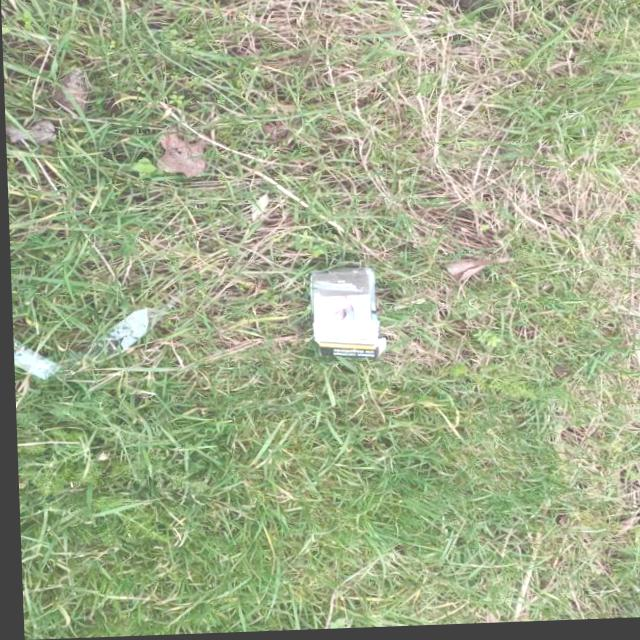Paper: (8, 287, 185, 382), (303, 268, 385, 364)
